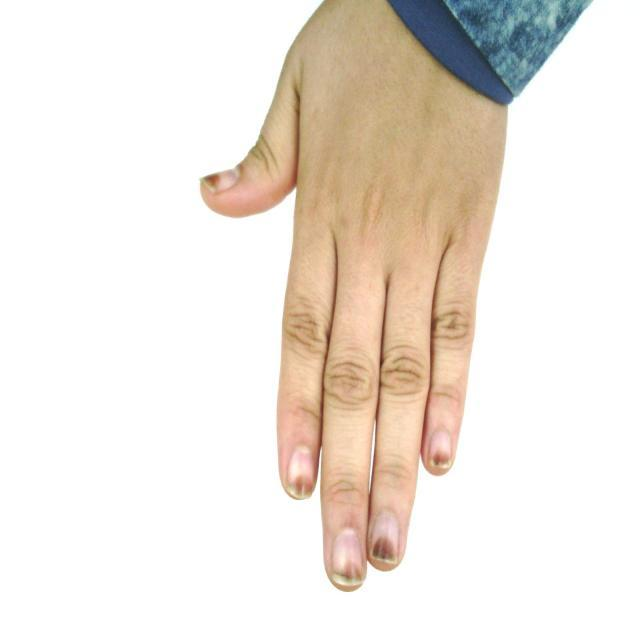Fingernail: (332, 529, 363, 586), (370, 512, 399, 564), (287, 448, 315, 500), (202, 168, 239, 194), (430, 431, 451, 467)
